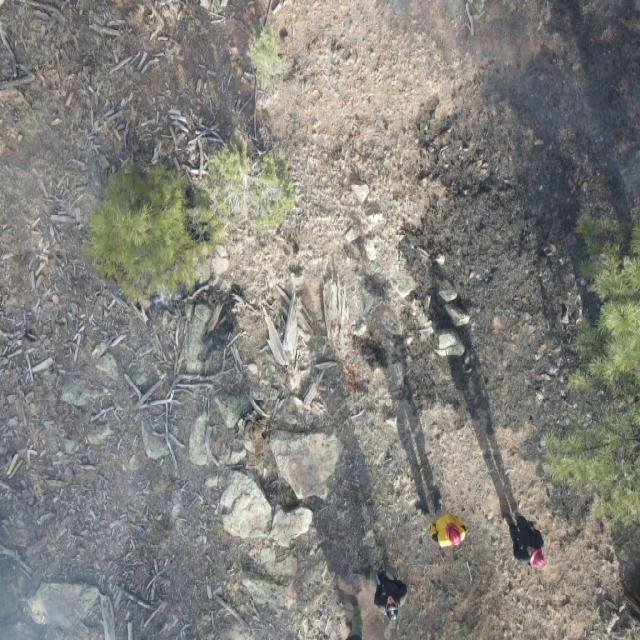fire: (341, 357, 363, 397), (358, 336, 371, 352), (332, 321, 339, 332)
smoke: (0, 317, 209, 640), (466, 0, 640, 201), (0, 85, 97, 365)
